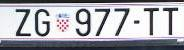-: (134, 20, 139, 24)
7: (114, 8, 130, 36), (95, 9, 109, 36)
9: (76, 8, 90, 36)
G: (35, 9, 50, 36)
T: (144, 8, 159, 36), (163, 8, 178, 35)
Z: (15, 9, 31, 36)
